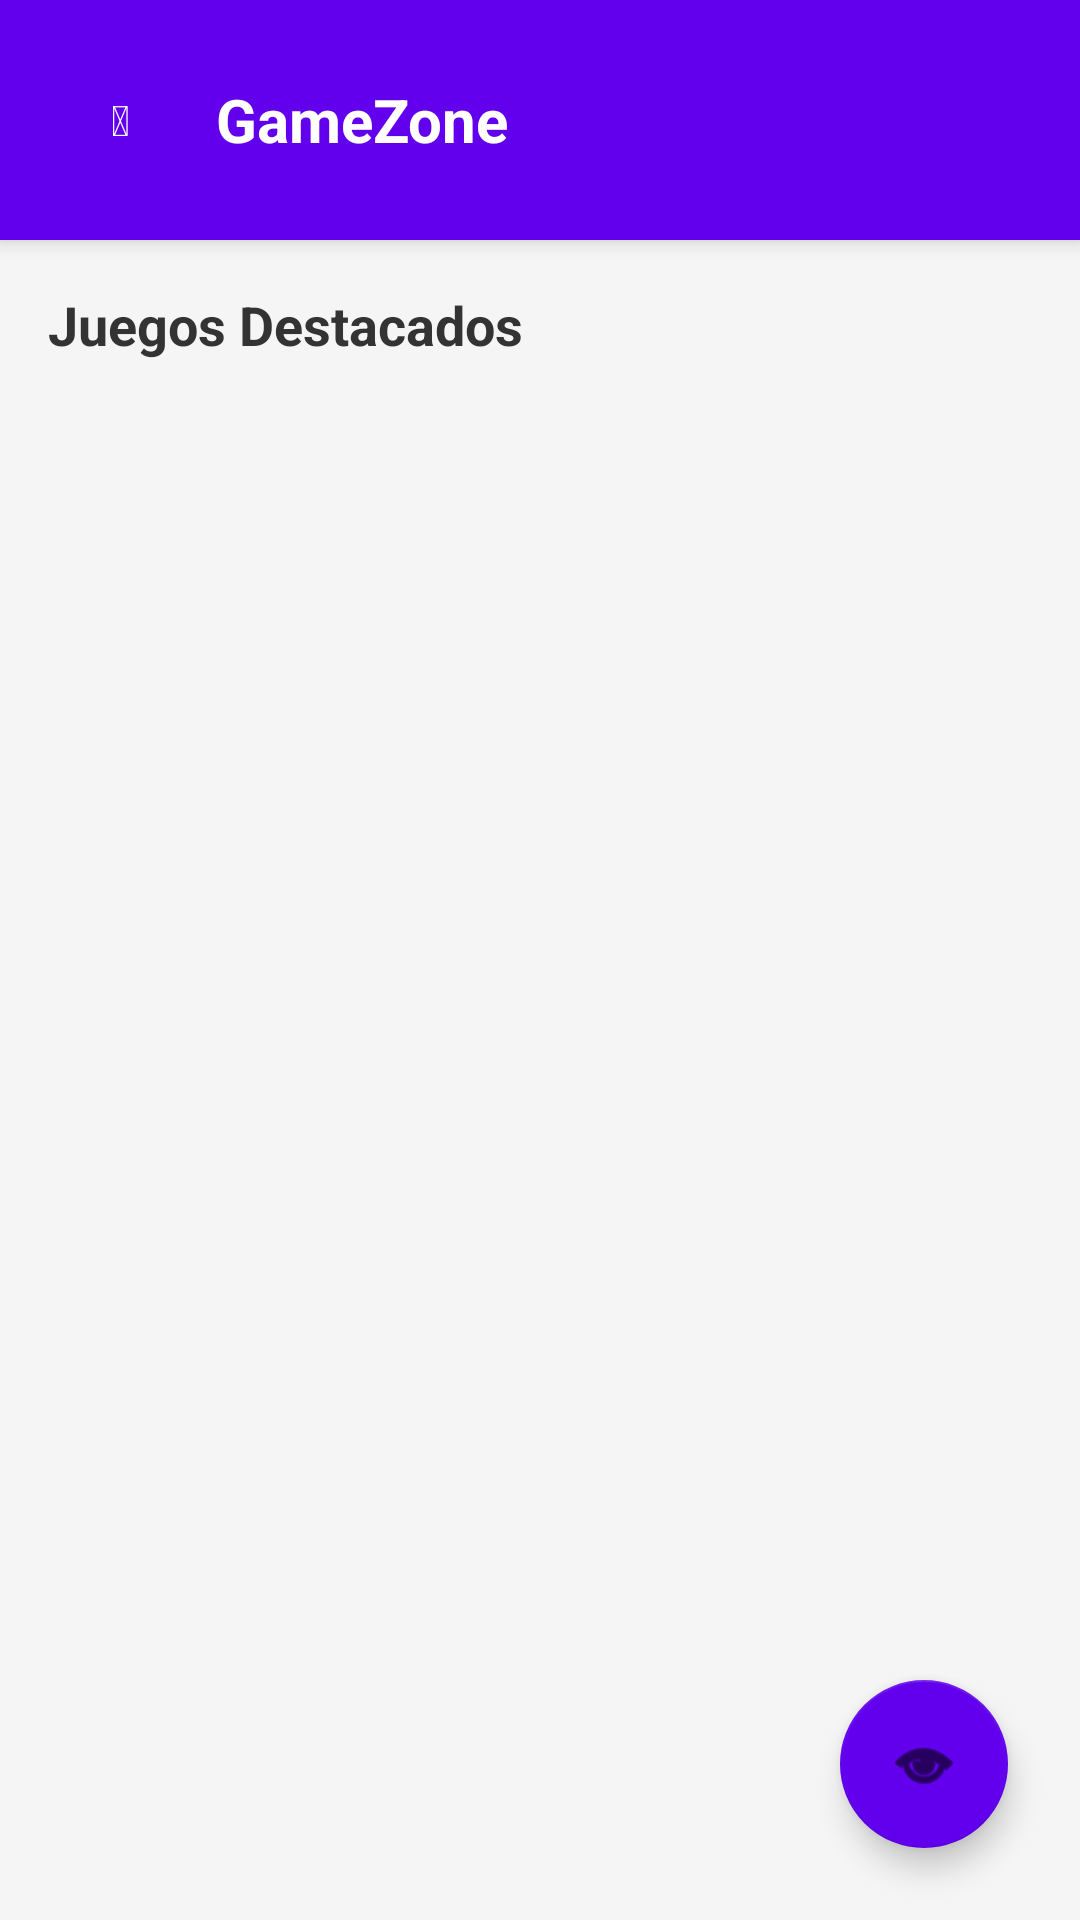

Screen size 1080x1920. Icon name, then its box in pixels as region(x1, y1, x2, y2):
Ver Carrito: region(840, 1680, 1008, 1848)
